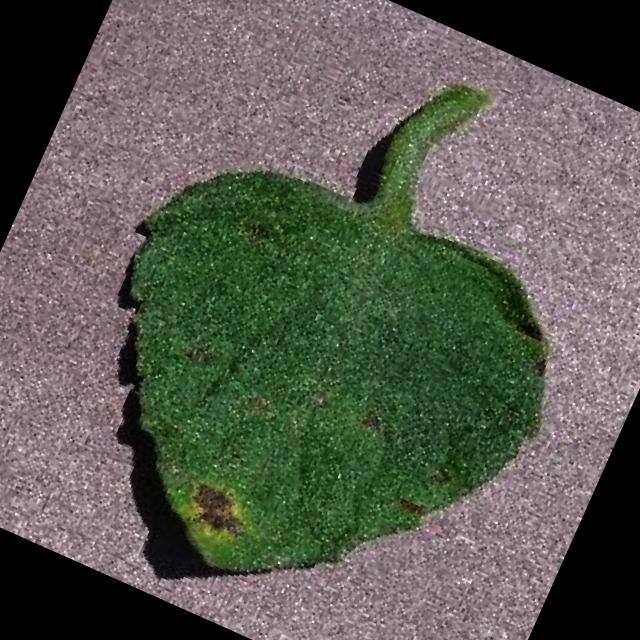Tomato Septoria spot leaf: (25, 111, 596, 640)
